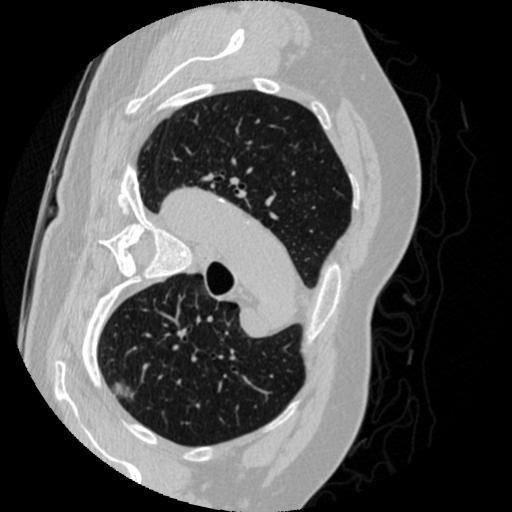nodule: (108, 377, 141, 410)
